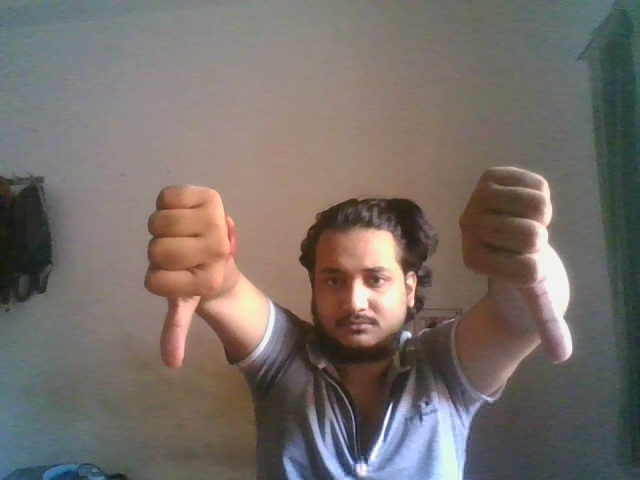ThumbsDown: (457, 165, 576, 364), (145, 184, 234, 371)
